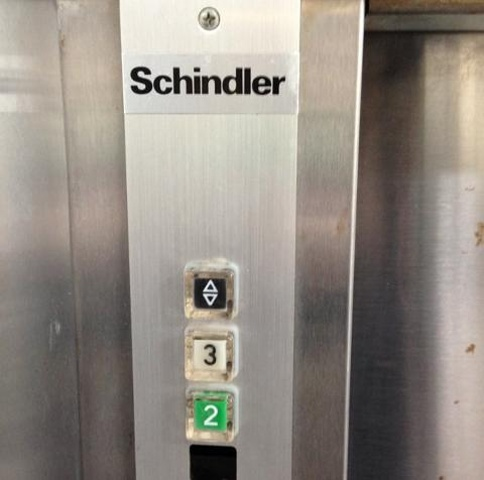2: (182, 384, 241, 445)
3: (182, 327, 239, 381)
updown: (184, 261, 239, 321)
